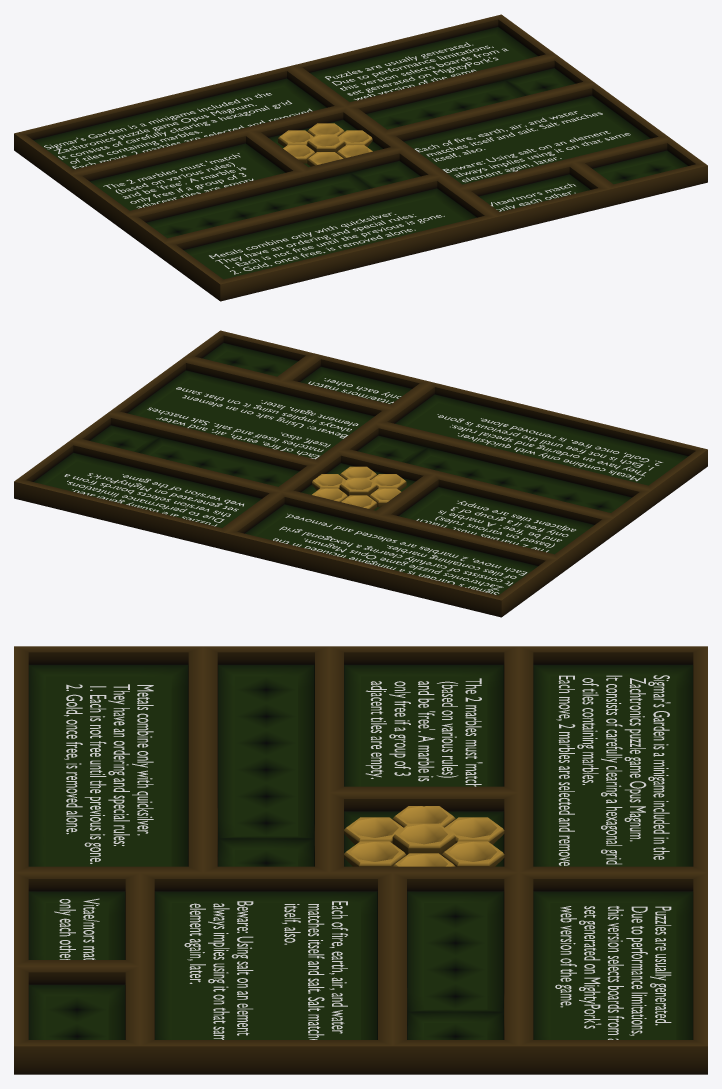
Rendered from manual.fbx.
The picture shows the model from 3 angles, top to bottom: view 1: azimuth 30°, elevation 25°; view 2: azimuth 150°, elevation 25°; view 3: azimuth 270°, elevation 25°; orthographic projection. The views are drawn at different scales.
Visible parts, largest first — view 1: AAAManualCombinator; view 2: AAAManualCombinator; view 3: AAAManualCombinator.
Boxes of the visible parts, <box> form: AAAManualCombinator: <box>14,14,707,301</box>; AAAManualCombinator: <box>14,330,707,617</box>; AAAManualCombinator: <box>14,646,707,1074</box>.
Bounding box in the file's own units: 3000 × 100 × 2200.
